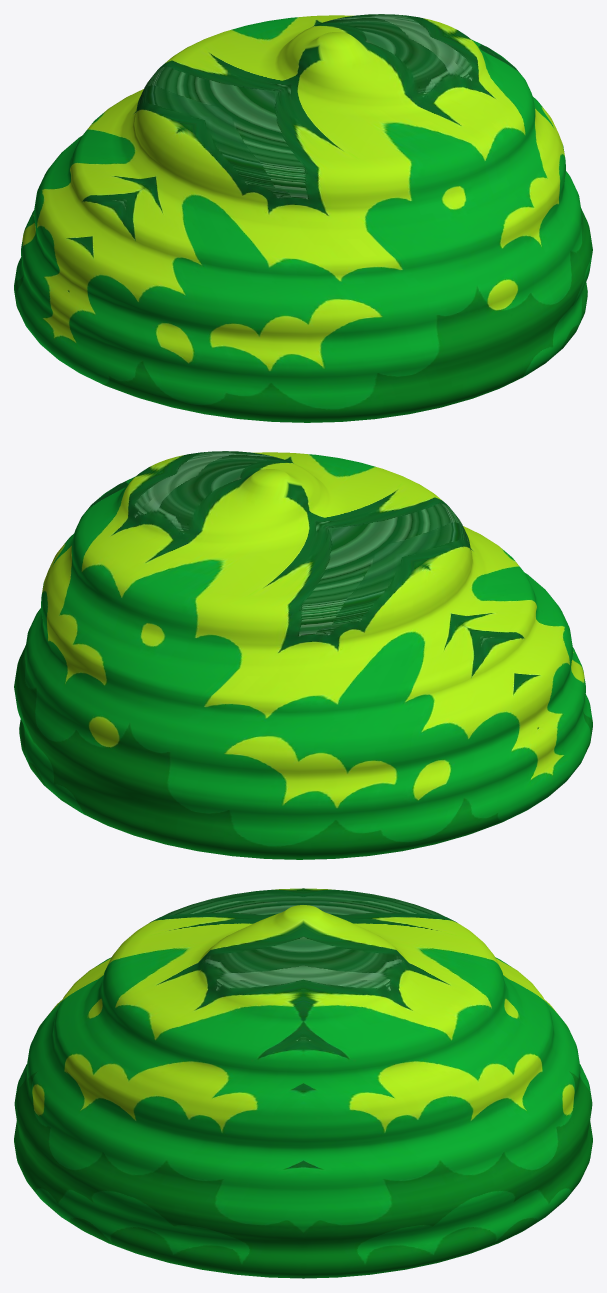
The model's file is round_shrub.glb.
The picture shows the model from 3 angles, top to bottom: view 1: azimuth 30°, elevation 25°; view 2: azimuth 150°, elevation 25°; view 3: azimuth 270°, elevation 25°; orthographic projection.
Visible parts, largest first — view 1: round_shrub; view 2: round_shrub; view 3: round_shrub.
Boxes of the visible parts, x1,y1,x2,y2 form: round_shrub: (14, 14, 592, 422); round_shrub: (14, 451, 592, 859); round_shrub: (14, 888, 592, 1278).
Size of the model in its own units: 0.9987 by 0.5432 by 0.987.
Materials: 1 (1 with a texture image).
